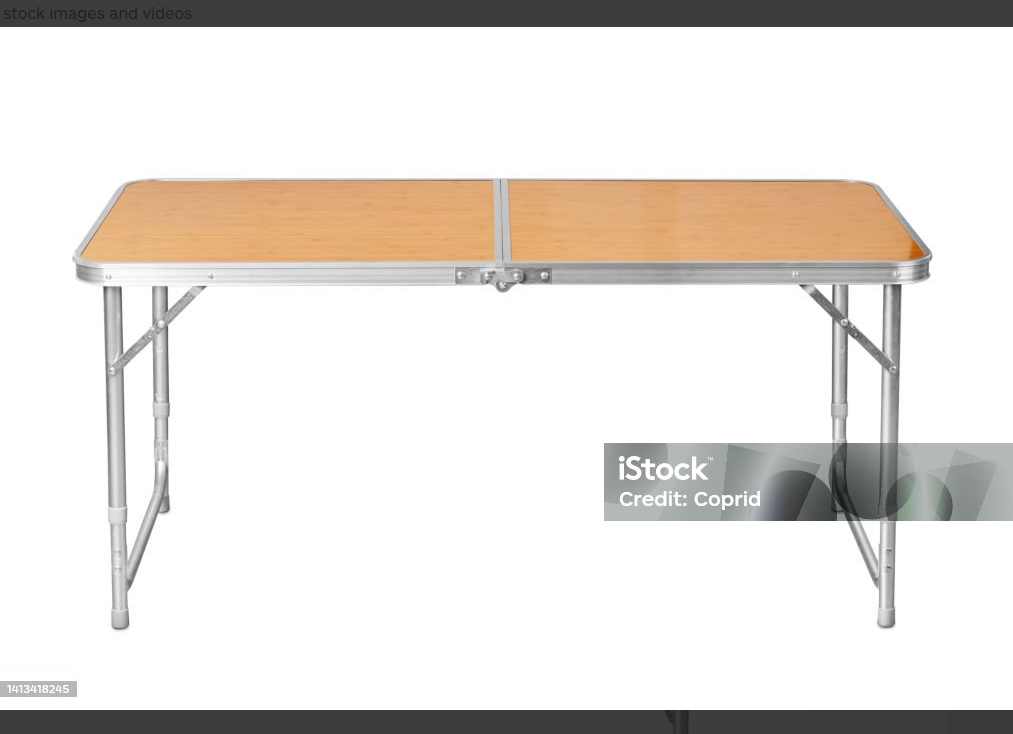obstacle: (70, 174, 937, 630)
